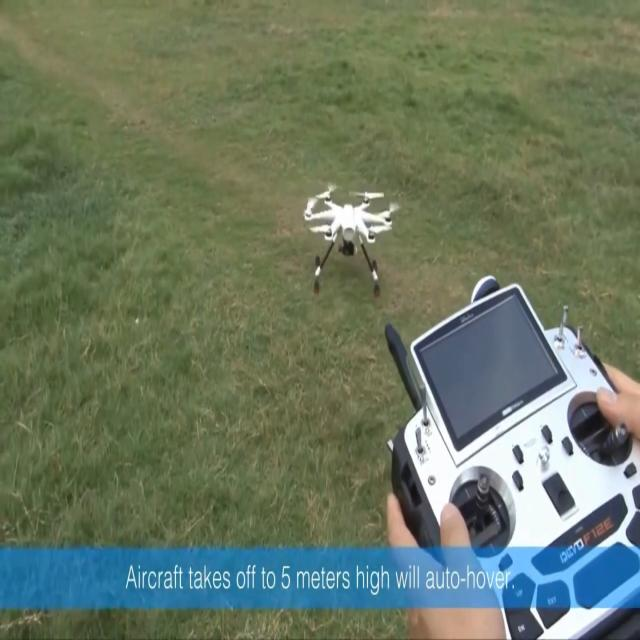drone: (302, 183, 398, 298)
